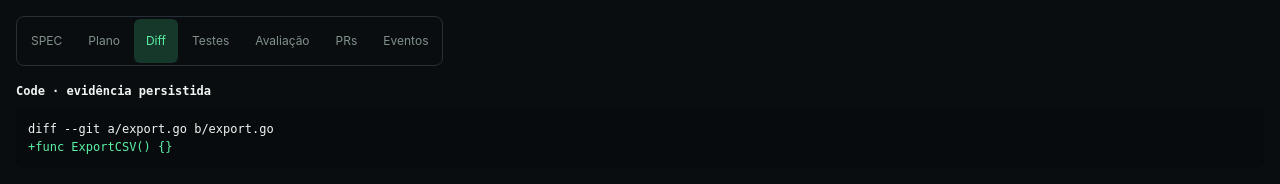
shows durable SPEC, plan, code and evaluator evidence in the workbench
This screenshot has width=1280, height=184.
Click the button "SPEC" at (47, 41), box [19,19,74,63]
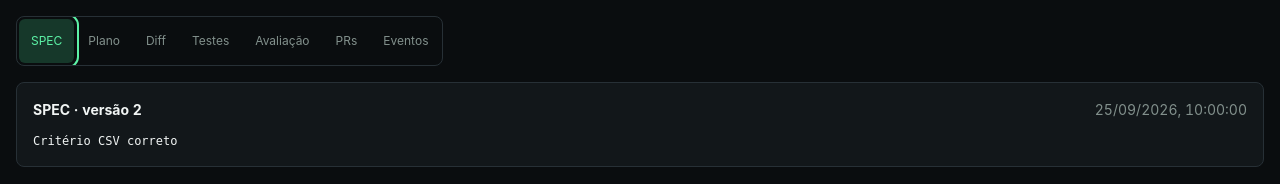
expect the text "Critério CSV correto" is shown: met, box [33,134,178,148]
Click the button "Plano" at (104, 41), box [76,19,132,63]
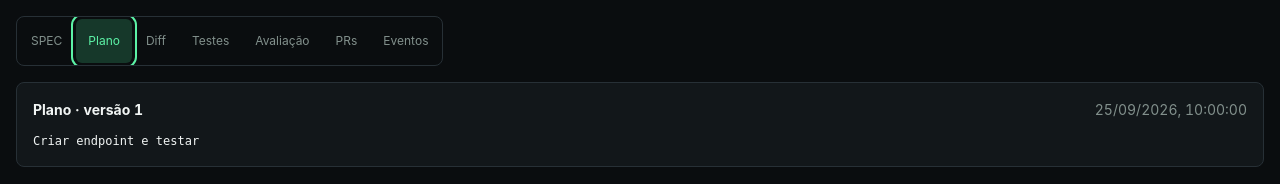
expect the text "Criar endpoint e testar" is shown: met, box [33,134,199,148]
Click the button "Diff" at (156, 41), box [134,19,178,63]
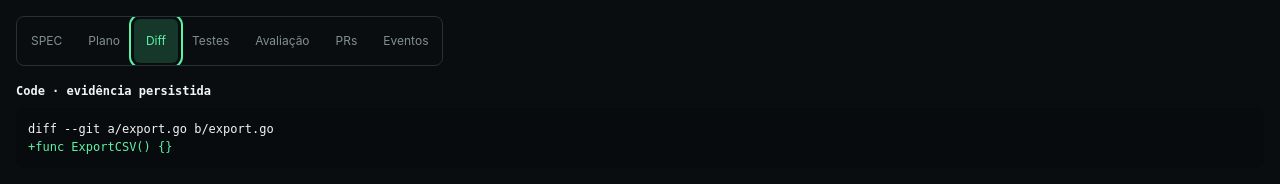
expect the text "+func ExportCSV() {}" is shown: met, box [28,140,172,154]
Click the button "Avaliação" at (282, 41), box [243,19,322,63]
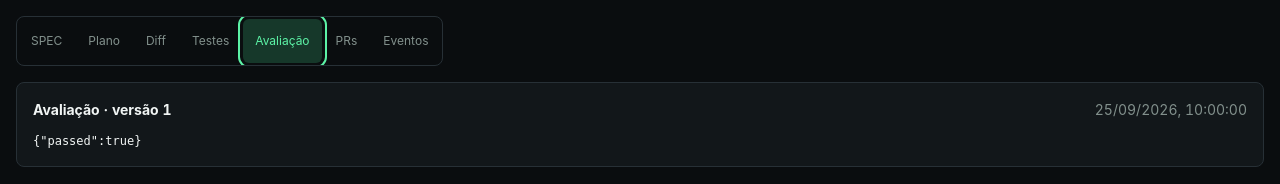
expect the text "{\"passed\":true}" is shown: met, box [33,134,141,148]
Click the button "PRs" at (346, 41), box [324,19,369,63]
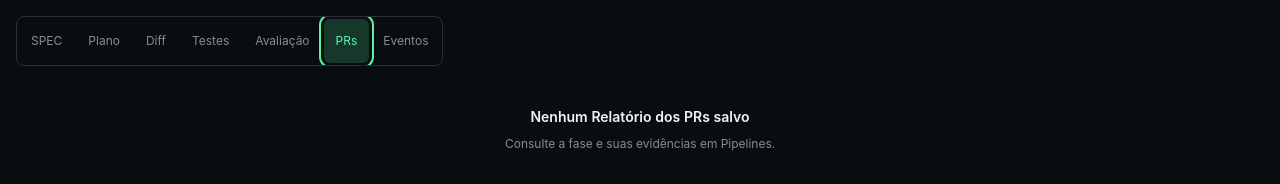
expect the text "Nenhum Relatório dos PRs salvo" is shown: met, box [530,108,750,125]
